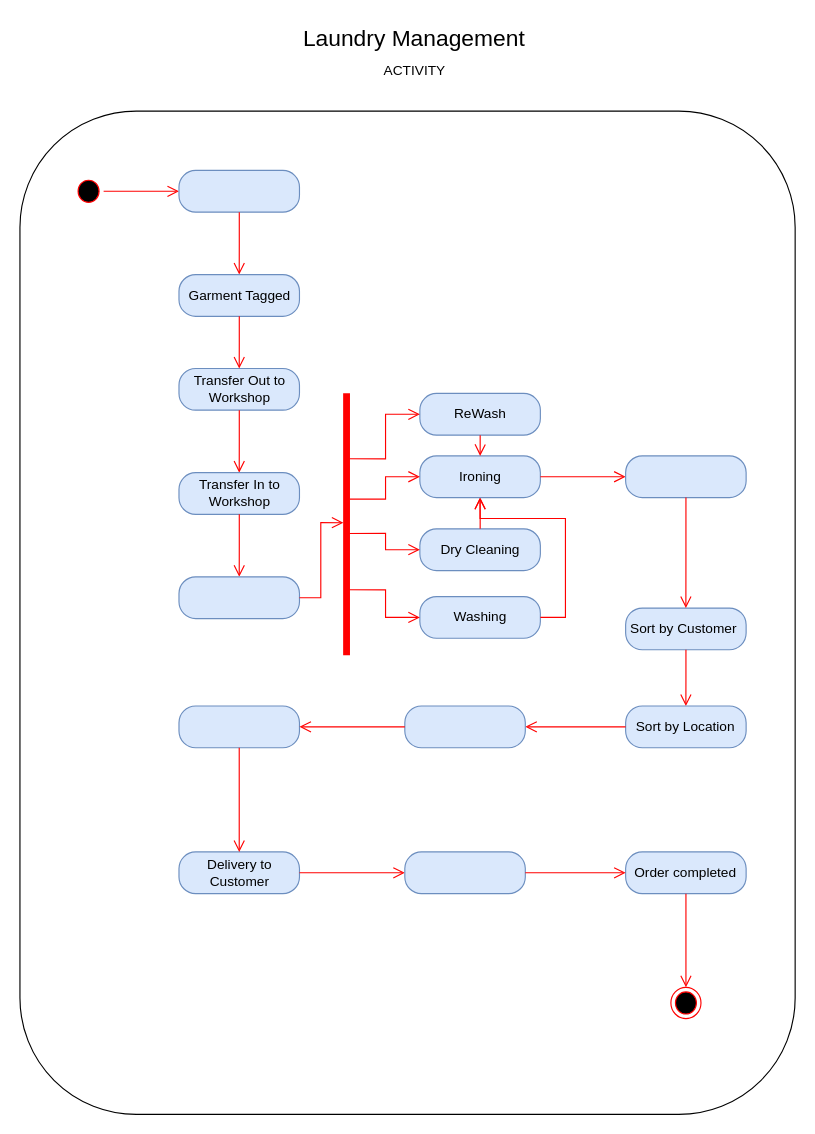
The diagram is 815 pixels wide and 1134 high, and some of its shapes have lost their labels. Each missing label, with the box of its shape:
Garment Order Accepted: (178, 169, 299, 212)
Packing: (624, 455, 746, 498)
Remove Tag: (404, 851, 525, 894)
Sort by Service: (178, 576, 299, 619)
Transfer In to Shop: (404, 705, 525, 748)
Transfer Out to Shop: (178, 705, 299, 748)
